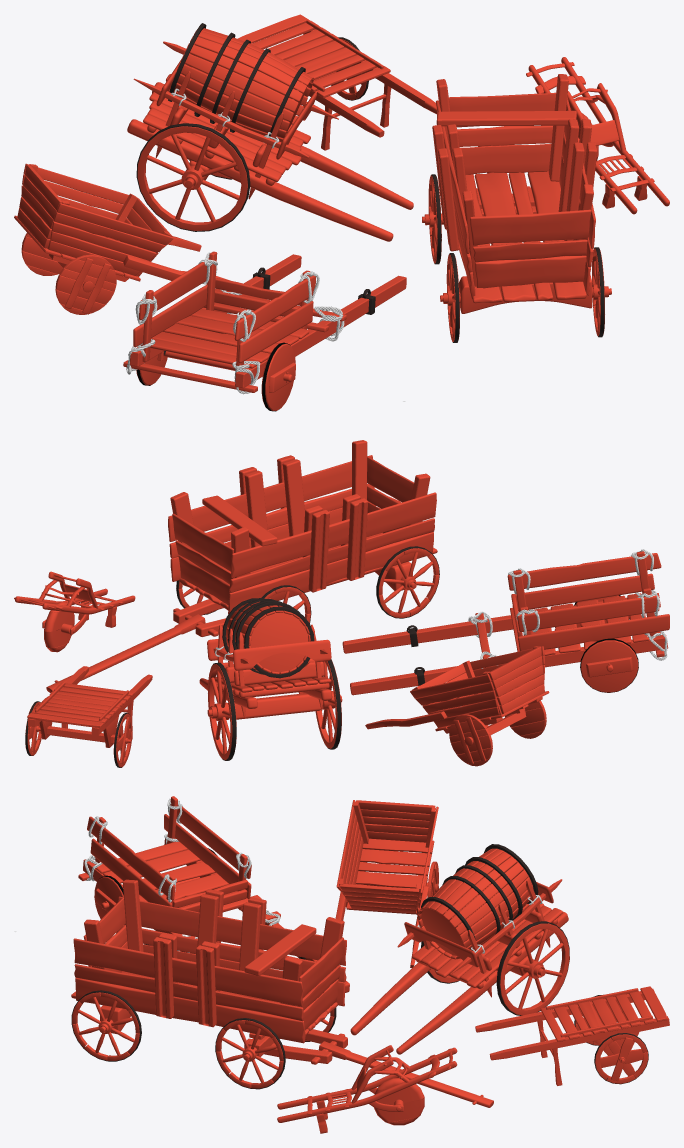
Rendered from Cart-Medieval-Pack.fbx.
3 renders of one model, top to bottom at view 1: azimuth 30°, elevation 25°; view 2: azimuth 150°, elevation 25°; view 3: azimuth 270°, elevation 25°, orthographic. The views are drawn at different scales.
Visible parts, largest first — view 1: Cylinder.318, Cube.881, Cube.878, Cube.877, Cube.867, Cylinder.317, Cube.816, Cube.821, Cylinder.316, Circle.019, Cube.815, Cube.813 (+40 smaller); view 2: Cube.881, Cube.876, Cube.875, Cylinder.318, Cube.877, Cube.815, Cube.857, Cube.813, Cube.858, Cube.839, Cube.859, Cylinder.328 (+28 smaller); view 3: Cube.875, Cube.881, Cylinder.318, Cube.876, Cube.810, Cylinder.323, Cube.813, Cube.789, Cylinder.327, Cylinder.325, Cube.877, Cube.814 (+25 smaller).
Part boxes in pixels (x1,y1,x2,y2): Cylinder.318: (168,23,313,142); Cube.881: (432,74,597,286); Cube.878: (470,209,591,288); Cube.877: (448,92,556,174); Cube.867: (458,171,586,303); Cylinder.317: (136,123,250,231); Cube.816: (48,203,173,275); Cube.821: (127,119,393,241); Cylinder.316: (55,254,116,314); Circle.019: (126,252,405,401); Cube.815: (21,163,128,236); Cube.813: (17,164,62,248); Cube.881: (170,440,430,592); Cube.876: (228,492,436,614); Cube.875: (168,455,375,581); Cylinder.318: (222,598,314,678); Cube.877: (172,513,234,605); Cube.815: (410,674,499,727); Cube.857: (518,614,669,651); Cube.813: (488,646,544,713); Cube.858: (517,595,659,631); Cube.839: (342,593,660,653); Cube.859: (507,553,661,590); Cylinder.328: (376,546,439,618); Cube.875: (73,938,305,1043); Cube.881: (84,879,344,1027); Cylinder.318: (418,844,538,959); Cube.876: (117,896,346,1006); Cube.810: (346,838,434,914); Cylinder.323: (496,921,569,1015); Cube.813: (356,800,435,842); Cube.789: (475,988,669,1060); Cylinder.327: (71,990,141,1061); Cylinder.325: (215,1018,285,1089); Cube.877: (297,937,343,1030); Cube.814: (340,883,419,913).
Size of the model in its own units: 580 by 160 by 640.
